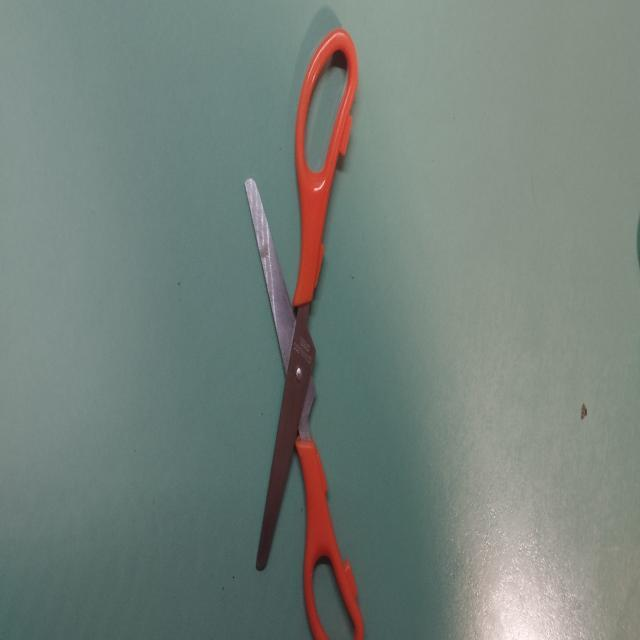tesoura: (242, 16, 370, 640)
